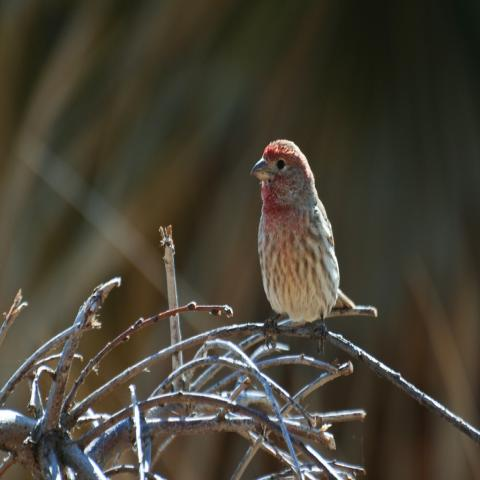bird: (248, 135, 378, 354)
